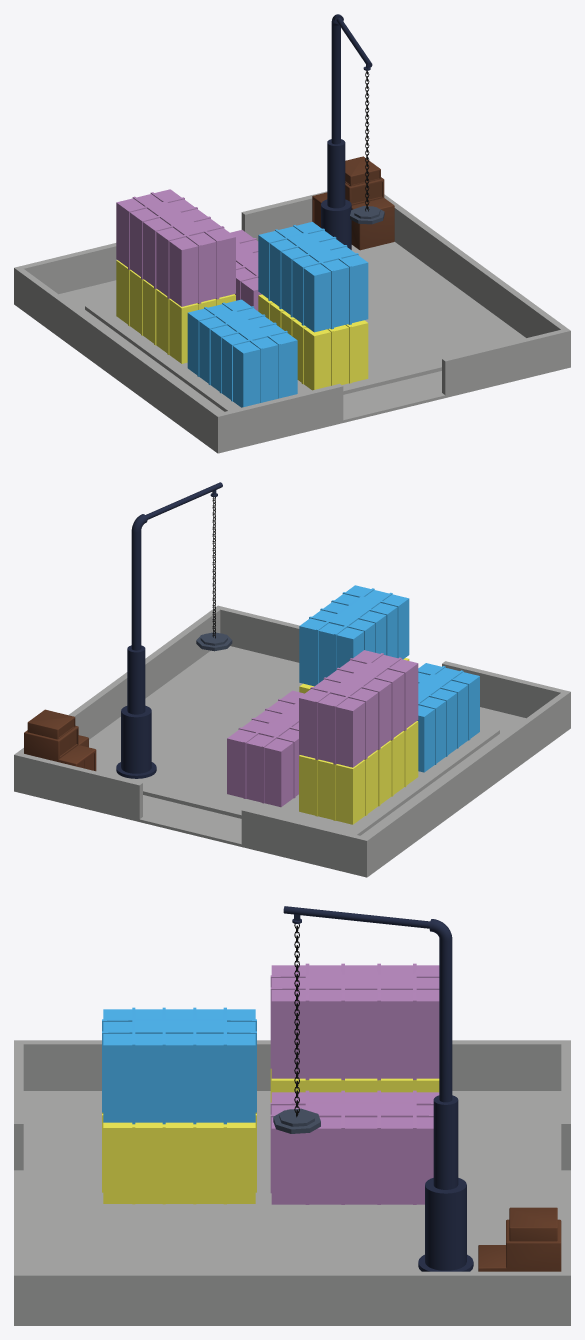
The model's file is industrial-buildings-inconstruction-warehouse.fbx.
3 views of the same model, one above another, from view 1: azimuth 30°, elevation 25°; view 2: azimuth 150°, elevation 25°; view 3: azimuth 270°, elevation 25° (orthographic). The views are drawn at different scales.
Visible parts, largest first — view 1: ib-warehouse-crane-chain-claw; view 2: ib-warehouse-crane-chain-claw; view 3: ib-warehouse-crane-chain-claw.
Boxes of the visible parts, left/top/right/bottom form: ib-warehouse-crane-chain-claw: left=14, top=14, right=570, bottom=453; ib-warehouse-crane-chain-claw: left=14, top=482, right=570, bottom=877; ib-warehouse-crane-chain-claw: left=14, top=906, right=570, bottom=1325.
Bounding box in the file's own units: 2811 × 1970 × 2811.
Materials: 1 (1 with a texture image).
